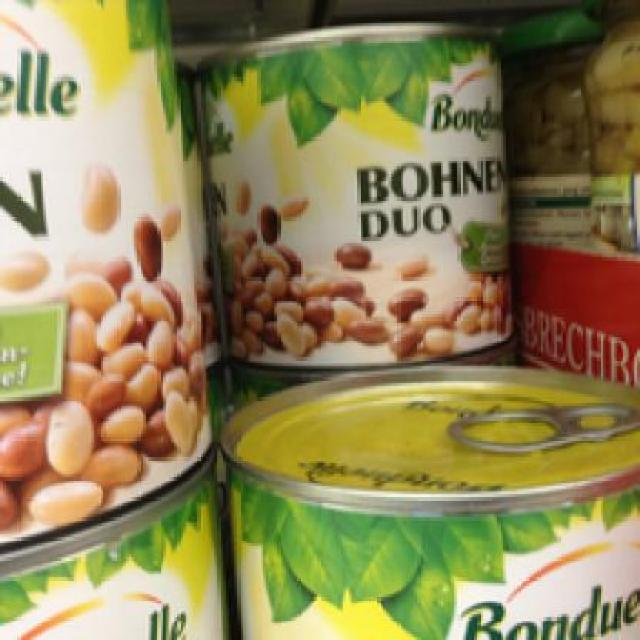Beans: (0, 0, 215, 558), (205, 22, 518, 372)
